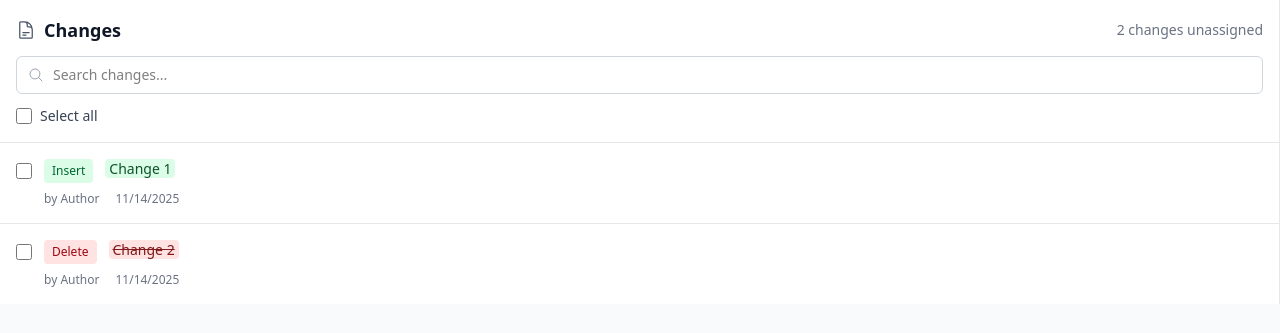
ChangeListPanel › Checkbox Selection › allows bulk select all
The image size is (1280, 333).
Click the checkbox labelled "Select all".
click(24, 116)  # box [16,108,32,124]
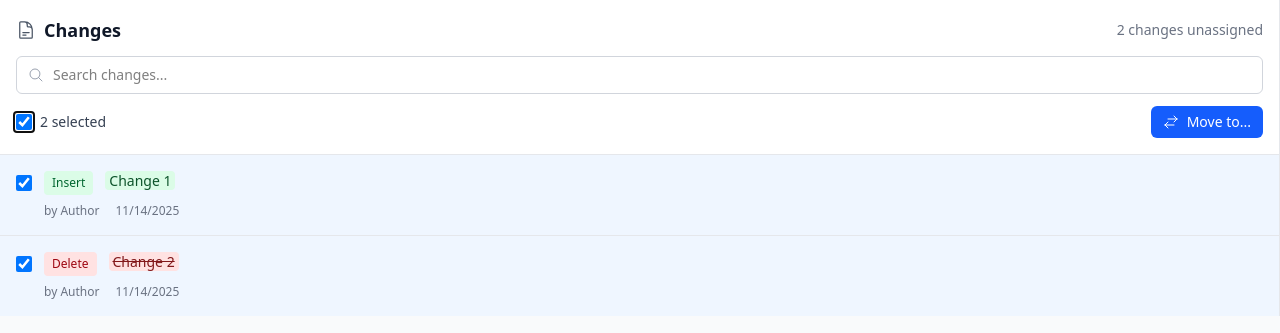
Expected: the checkbox named "Select all" is checked, [16,114,32,130]
Expected: the text "2 selected" is shown, [40,112,106,132]
Expected: the checkbox next to "Insert" is checked, [16,175,32,191]
